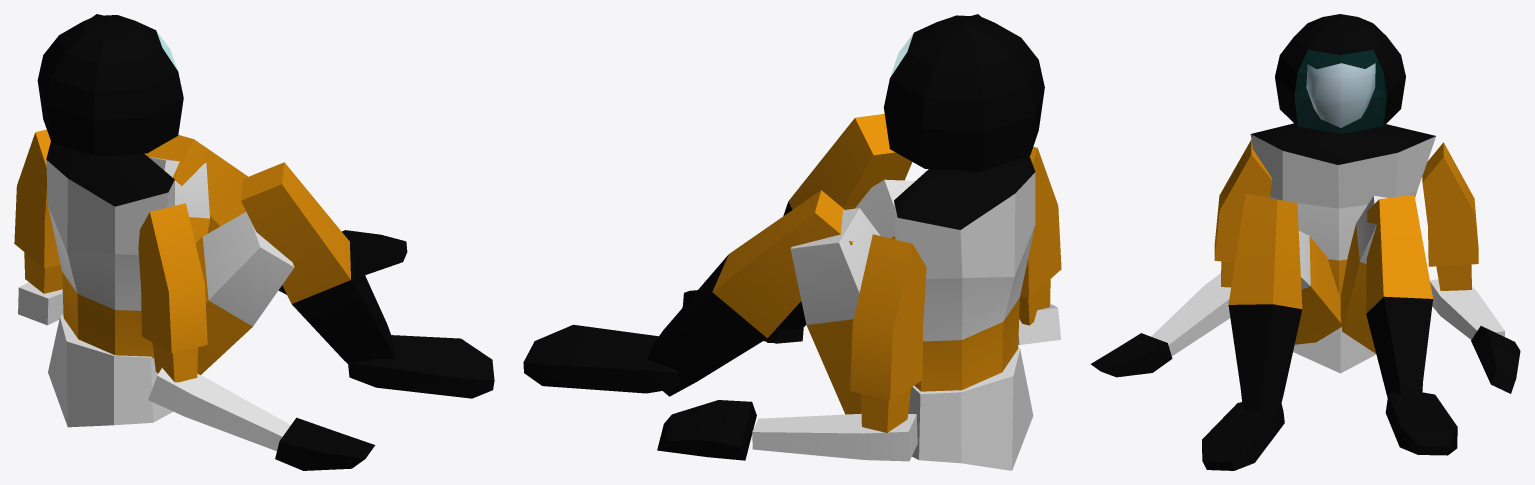
The model's file is heroDead.fbx.
3 views of the same model, side by side, from view 1: azimuth 30°, elevation 25°; view 2: azimuth 150°, elevation 25°; view 3: azimuth 270°, elevation 25° (orthographic). The views are drawn at different scales.
Parts seen in each view (by area): view 1: herodead; view 2: herodead; view 3: herodead.
Boxes of the visible parts, box(x1,y1,x2,y2) form: herodead: box(14, 14, 494, 470); herodead: box(523, 14, 1061, 470); herodead: box(1090, 14, 1520, 470).
Size of the model in its own units: 24.69 by 23.2 by 26.74.
